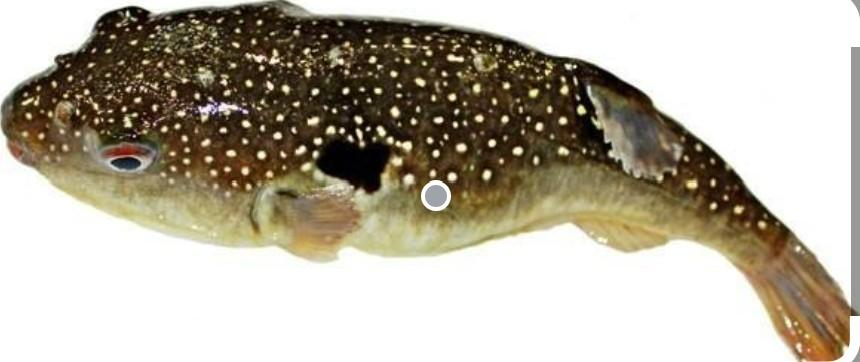fish: (2, 2, 855, 359)
